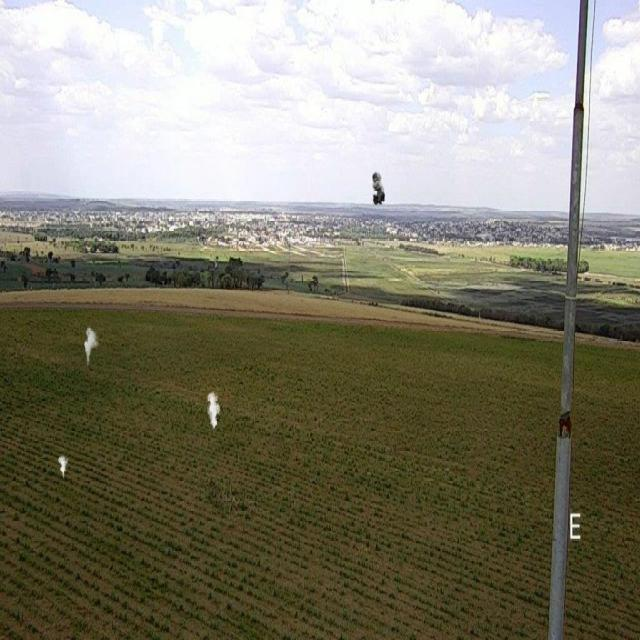smoke: (206, 386, 221, 429), (369, 170, 386, 207), (84, 325, 98, 363)
